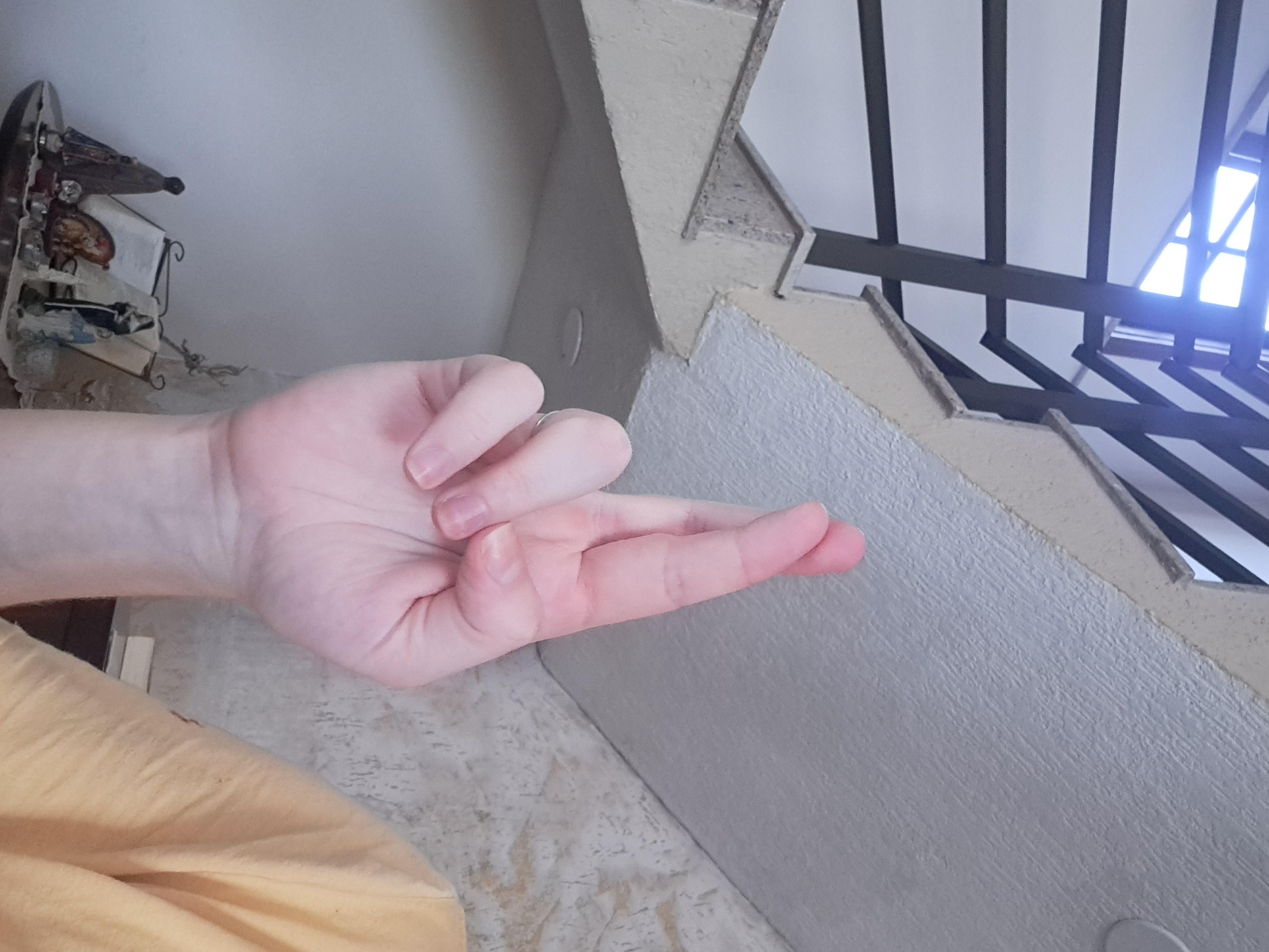R: (441, 289, 938, 793)
